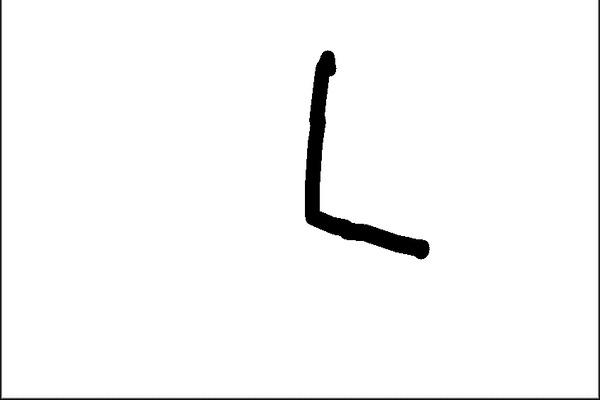L: (294, 39, 433, 269)
